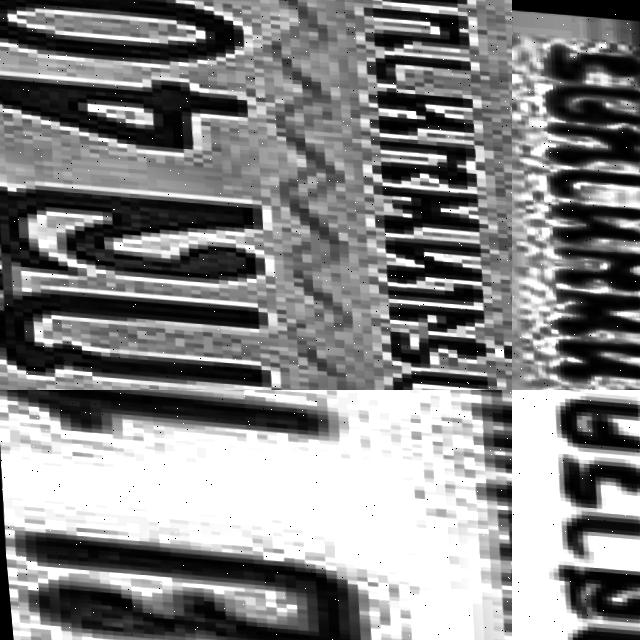license-plate: (0, 0, 512, 390), (0, 390, 512, 640), (512, 0, 640, 390), (512, 390, 640, 640)
